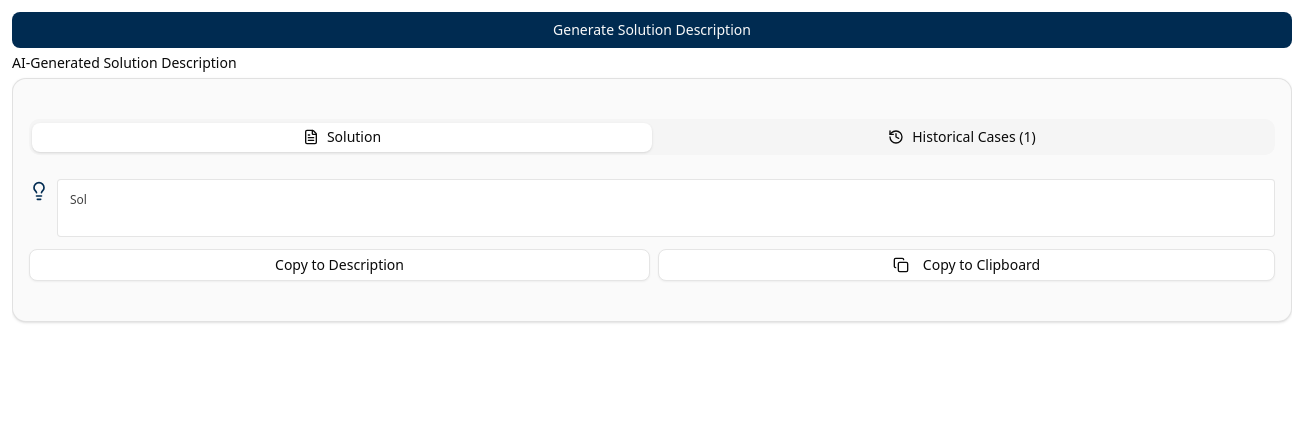
Scenario: AIGeneratorPanel › truncates long historical cases and toggles expansion
The image size is (1304, 442).
Step 1. Click the tab "Historical Cases (1)" → (962, 137), box [652,122,1272,152]
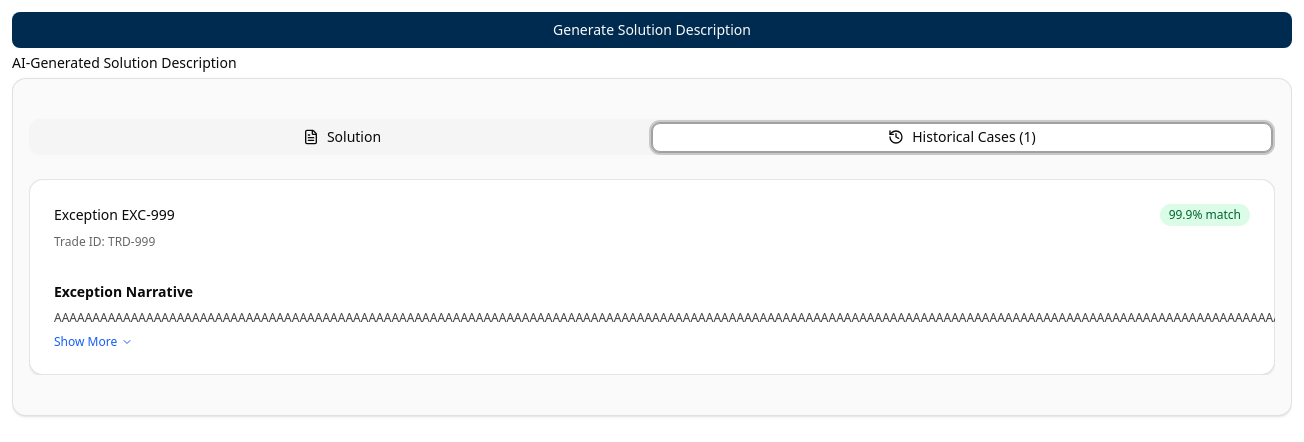
expect the button "Show More" is shown: met
Step 2. Click the button "Show More" → (94, 342), box [54,334,133,350]
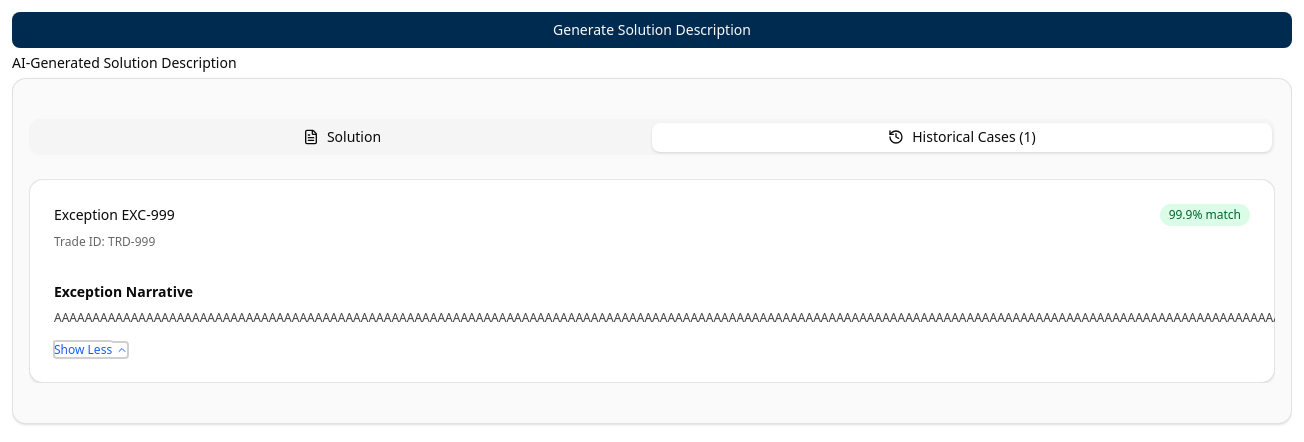
expect the button "Show Less" is shown: met
Step 3. Click the button "Show Less" → (91, 350), box [54,342,128,358]
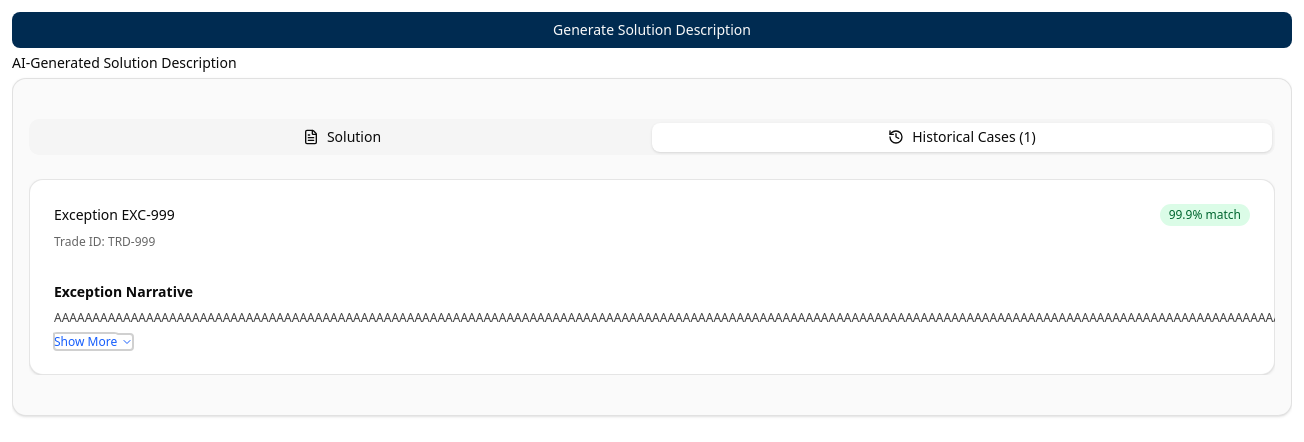
expect the button "Show More" is shown: met, box [54,334,133,350]
